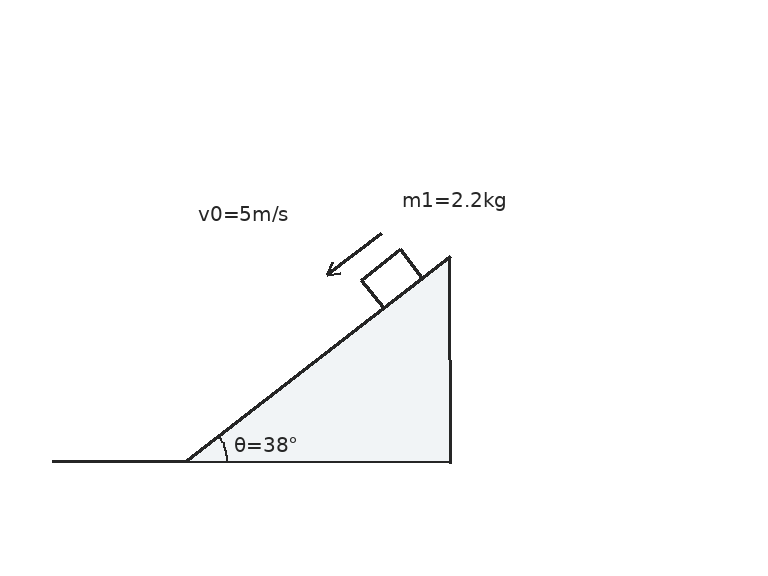block: (359, 248, 423, 310)
ramp: (185, 253, 452, 463)
